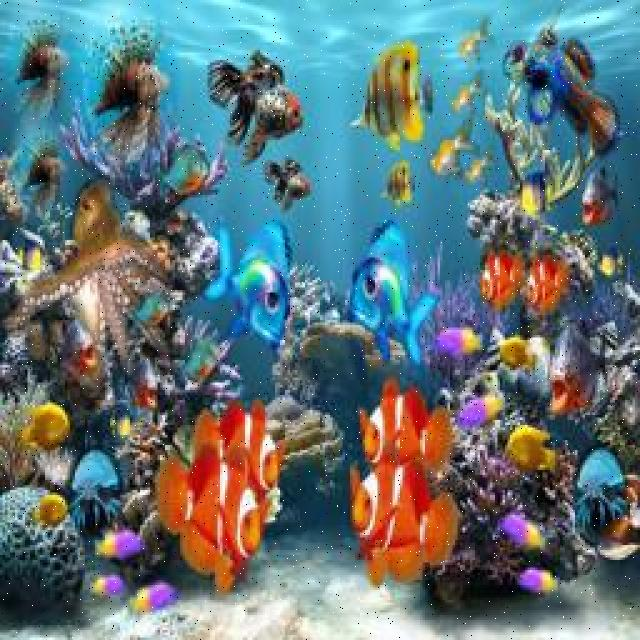aquatic plants: (0, 373, 48, 490)
fish: (500, 22, 621, 156), (157, 442, 260, 596), (351, 445, 459, 587), (76, 12, 174, 162), (349, 221, 443, 370), (202, 218, 303, 349), (206, 51, 305, 164), (343, 40, 434, 152), (188, 397, 284, 497), (358, 374, 449, 472), (4, 18, 77, 121), (7, 127, 70, 220), (552, 325, 608, 412), (264, 155, 316, 213), (156, 146, 216, 196), (428, 117, 479, 174), (524, 254, 572, 308), (481, 248, 526, 304), (21, 402, 72, 450), (118, 351, 158, 410), (580, 164, 618, 225), (57, 318, 96, 376), (509, 427, 556, 474), (126, 584, 178, 620), (125, 294, 170, 332), (512, 170, 551, 213), (501, 512, 544, 550), (380, 160, 416, 205), (461, 17, 497, 62), (435, 328, 483, 360), (461, 145, 499, 183), (457, 396, 503, 427), (95, 532, 147, 559), (499, 338, 538, 372), (34, 494, 71, 526), (521, 566, 556, 591), (599, 246, 626, 276), (448, 85, 473, 114), (90, 575, 124, 596)
reefs: (418, 400, 599, 582), (4, 179, 174, 367), (62, 98, 228, 250), (485, 87, 592, 202), (0, 488, 84, 620), (414, 242, 482, 392), (268, 406, 346, 470), (70, 451, 130, 527), (574, 446, 629, 526), (298, 320, 385, 369)
